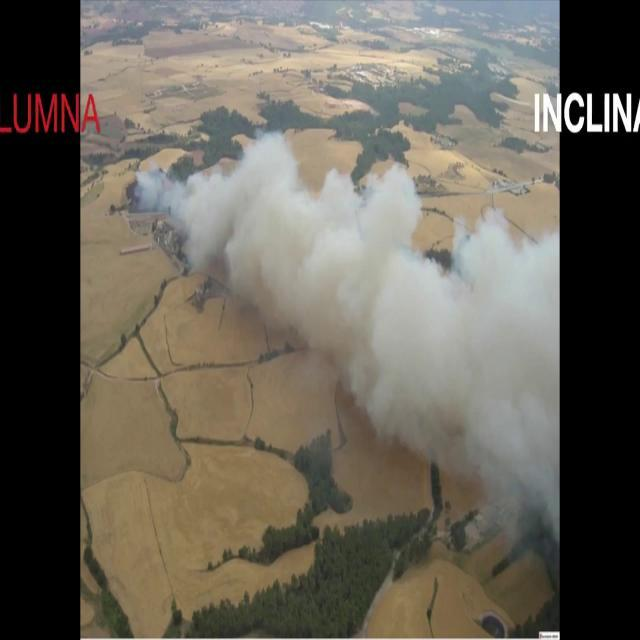Smoke: (280, 141, 558, 543), (139, 125, 333, 310)
